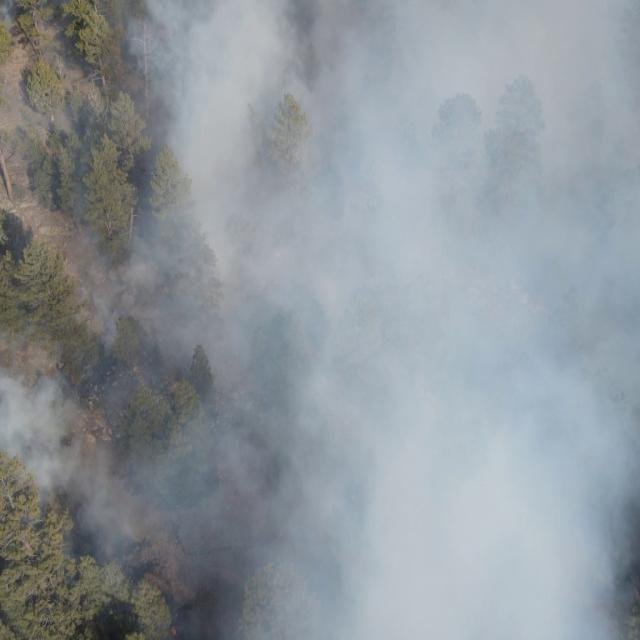fire: (168, 626, 180, 636)
smoke: (0, 0, 640, 640)
